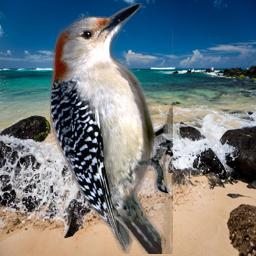Woodpecker: (50, 3, 173, 254)
